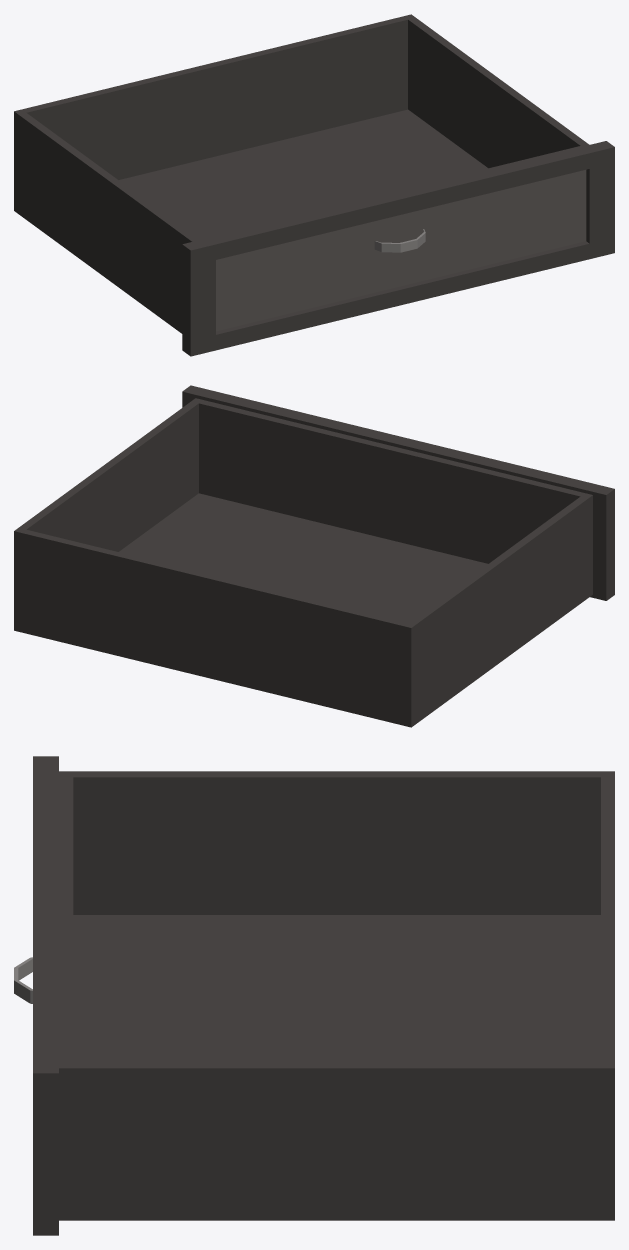
Rendered from Cupboard_08_02.fbx.
3 views of the same model, one above another, from view 1: azimuth 30°, elevation 25°; view 2: azimuth 150°, elevation 25°; view 3: azimuth 270°, elevation 25° (orthographic). The views are drawn at different scales.
Visible parts, largest first — view 1: Cupboard_08_02; view 2: Cupboard_08_02; view 3: Cupboard_08_02.
Part boxes in pixels (box(x1,y1,x2,y2)): Cupboard_08_02: box(14, 14, 614, 356); Cupboard_08_02: box(14, 385, 614, 727); Cupboard_08_02: box(14, 756, 614, 1235).
Size of the model in its own units: 65.03 by 15.53 by 52.14.
